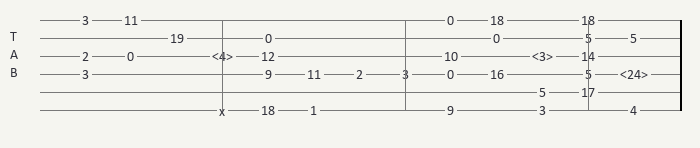0: (127, 50, 138, 63), (265, 32, 276, 45), (447, 68, 458, 81), (447, 14, 458, 27), (493, 32, 504, 45)
1: (310, 104, 321, 117)
10: (444, 50, 462, 63)
11: (124, 14, 142, 27), (307, 68, 325, 81)
12: (261, 50, 279, 63)
14: (581, 50, 599, 63)
16: (490, 68, 508, 81)
17: (581, 86, 599, 99)
18: (261, 104, 279, 117), (490, 14, 508, 27), (581, 14, 599, 27)
19: (170, 32, 188, 45)
2: (82, 50, 93, 63), (356, 68, 367, 81)
3: (82, 14, 93, 27), (82, 68, 93, 81), (402, 68, 413, 81), (539, 104, 550, 117)
4: (630, 104, 641, 117)
5: (539, 86, 550, 99), (585, 32, 596, 45), (585, 68, 596, 81), (630, 32, 641, 45)
9: (265, 68, 276, 81), (447, 104, 458, 117)
harmonic: (620, 68, 652, 81), (212, 50, 237, 63), (532, 50, 557, 63)
x: (219, 105, 229, 116)
